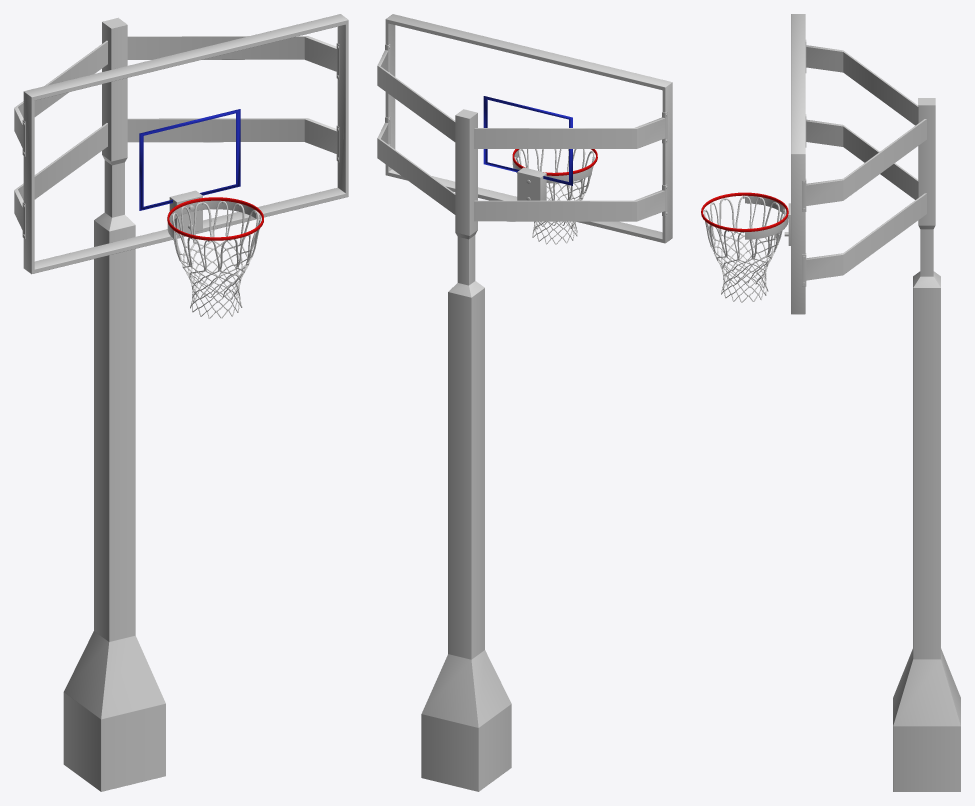
File: 농구골대 모델링.fbx
3 renders of one model, left to right at view 1: azimuth 30°, elevation 25°; view 2: azimuth 150°, elevation 25°; view 3: azimuth 270°, elevation 25°, orthographic. The views are drawn at different scales.
Visible parts, largest first — view 1: polySurface4, polySurface1, polySurface2, polySurface3, polySurface135, polySurface6, polySurface105, polySurface5; view 2: polySurface4, polySurface1, polySurface2, polySurface3, polySurface135, polySurface105; view 3: polySurface4, polySurface3, polySurface2, polySurface1, polySurface6, polySurface5.
Boxes of the visible parts, <box> form: polySurface4: <box>63,18,165,791</box>; polySurface1: <box>23,14,348,274</box>; polySurface2: <box>14,118,336,229</box>; polySurface3: <box>14,36,336,147</box>; polySurface135: <box>139,109,240,210</box>; polySurface6: <box>167,197,263,240</box>; polySurface105: <box>169,190,202,236</box>; polySurface5: <box>167,200,256,238</box>; polySurface4: <box>421,109,511,791</box>; polySurface1: <box>385,14,672,243</box>; polySurface2: <box>377,122,665,221</box>; polySurface3: <box>377,50,665,148</box>; polySurface135: <box>483,96,572,185</box>; polySurface105: <box>517,167,546,200</box>; polySurface4: <box>893,98,960,791</box>; polySurface3: <box>806,45,926,205</box>; polySurface2: <box>806,119,926,280</box>; polySurface1: <box>791,14,805,314</box>; polySurface6: <box>701,192,788,231</box>; polySurface5: <box>745,195,788,239</box>.
Bounding box in the file's own units: 512 × 1174 × 399.
